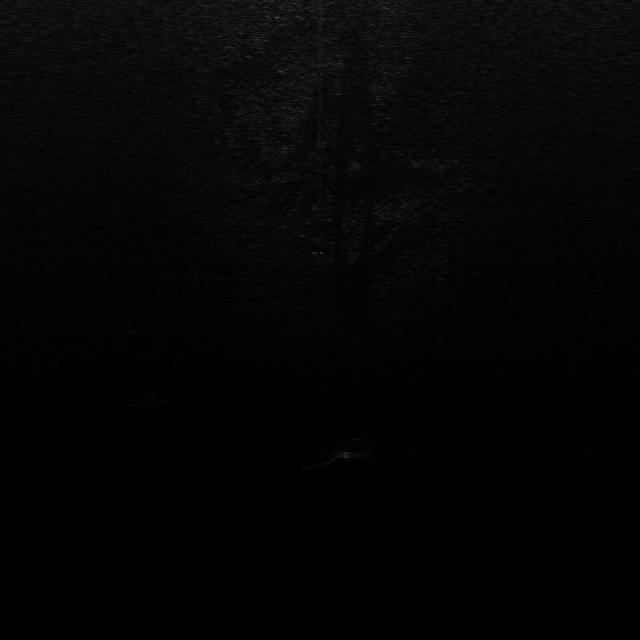ball: (151, 386, 178, 404)
circle cage: (117, 325, 143, 342)
tyre: (334, 436, 374, 459)
